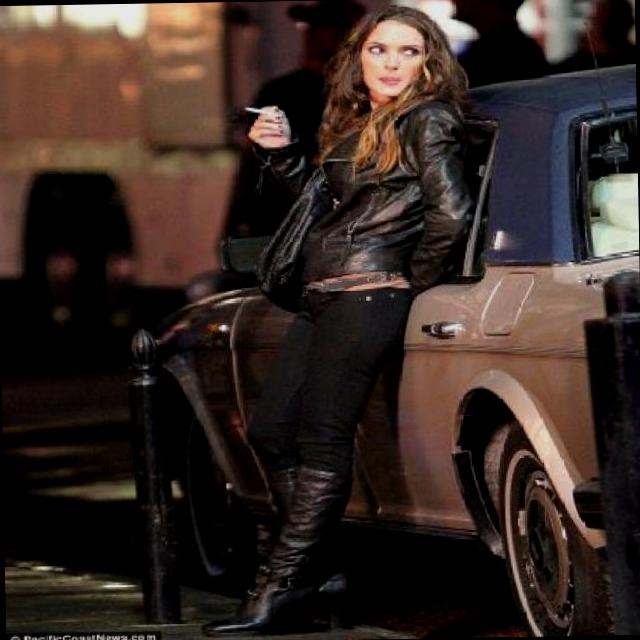cigarette: (242, 104, 278, 118)
